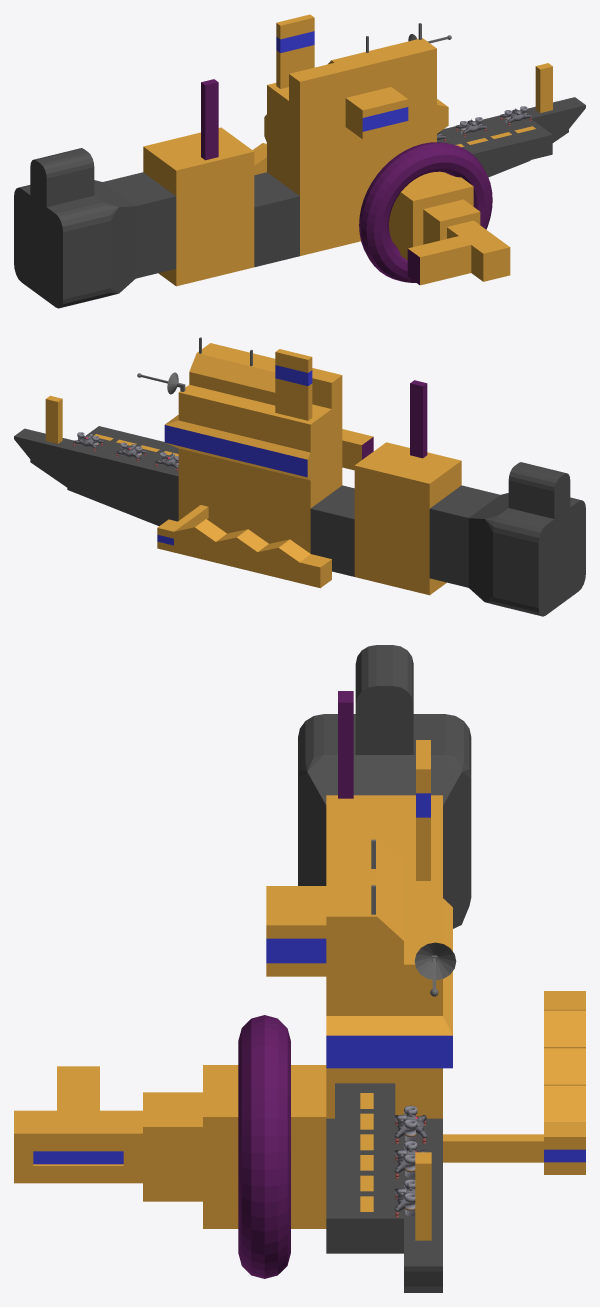
Rendered from alien3.fbx.
3 views of the same model, one above another, from view 1: azimuth 30°, elevation 25°; view 2: azimuth 150°, elevation 25°; view 3: azimuth 270°, elevation 25° (orthographic). The views are drawn at different scales.
Parts seen in each view (by area): view 1: Alien-ship3; view 2: Alien-ship3; view 3: Alien-ship3.
Part boxes in pixels (x1,y1,x2,y2): Alien-ship3: (14, 14, 585, 308); Alien-ship3: (14, 337, 585, 616); Alien-ship3: (14, 645, 585, 1292).
Size of the model in its own units: 19.34 by 8.3 by 9.81.
